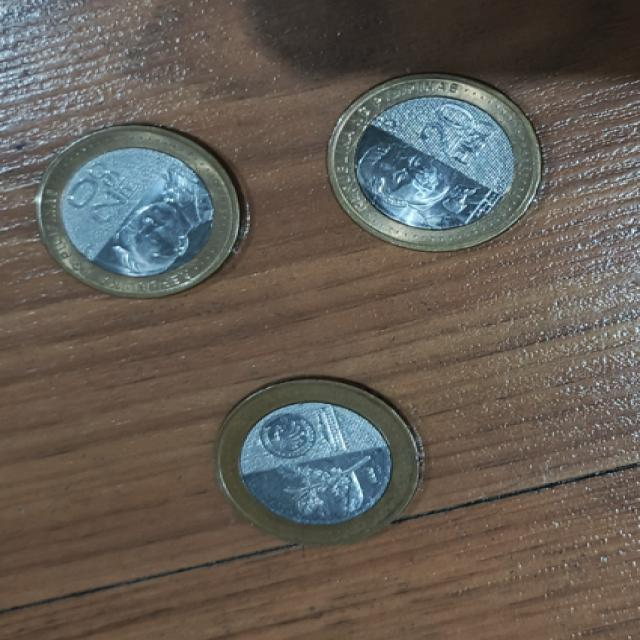20_peso: (328, 74, 539, 250), (36, 126, 238, 297), (215, 379, 417, 545)
